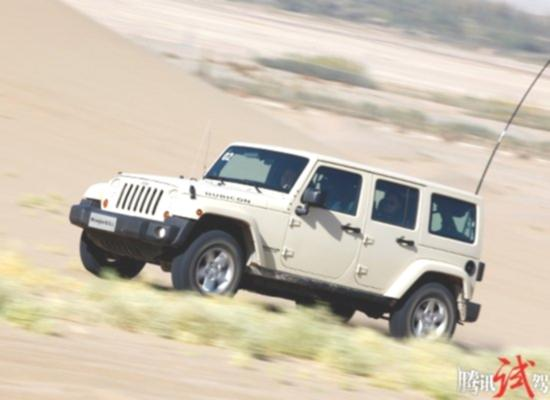jeep: (131, 173, 158, 191)
